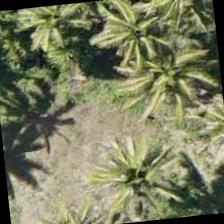Kelapa_Sawit: (91, 122, 190, 221), (128, 16, 223, 116), (96, 0, 194, 73), (4, 2, 100, 69), (34, 168, 130, 223), (134, 0, 218, 49)
